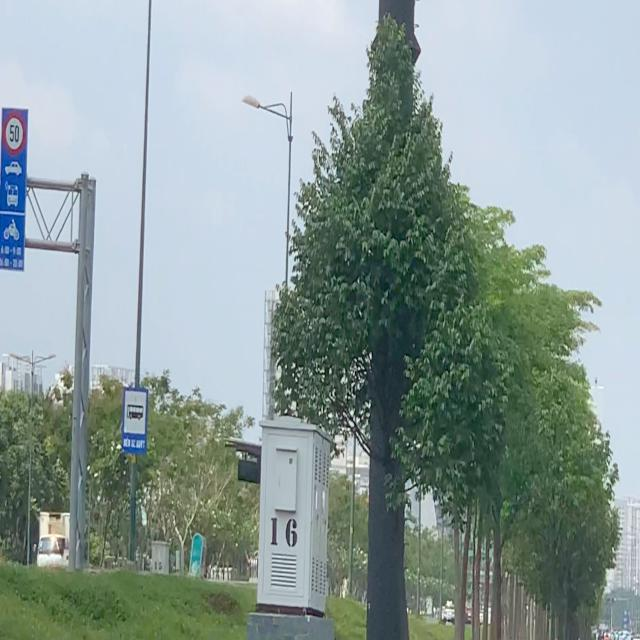Ben xe buyt: (121, 387, 150, 456)
Toc do toi da: (1, 110, 28, 156)
